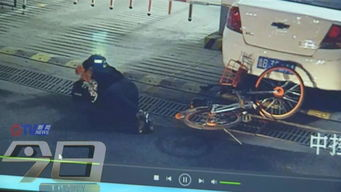fall: (63, 51, 160, 134)
